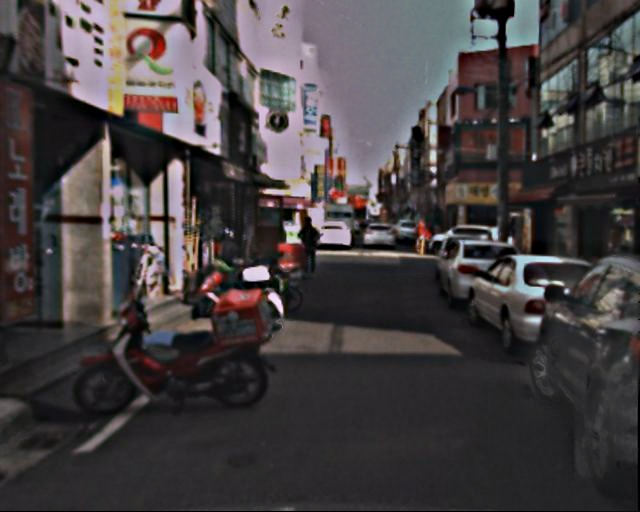person: (296, 217, 321, 278), (413, 219, 430, 254)
